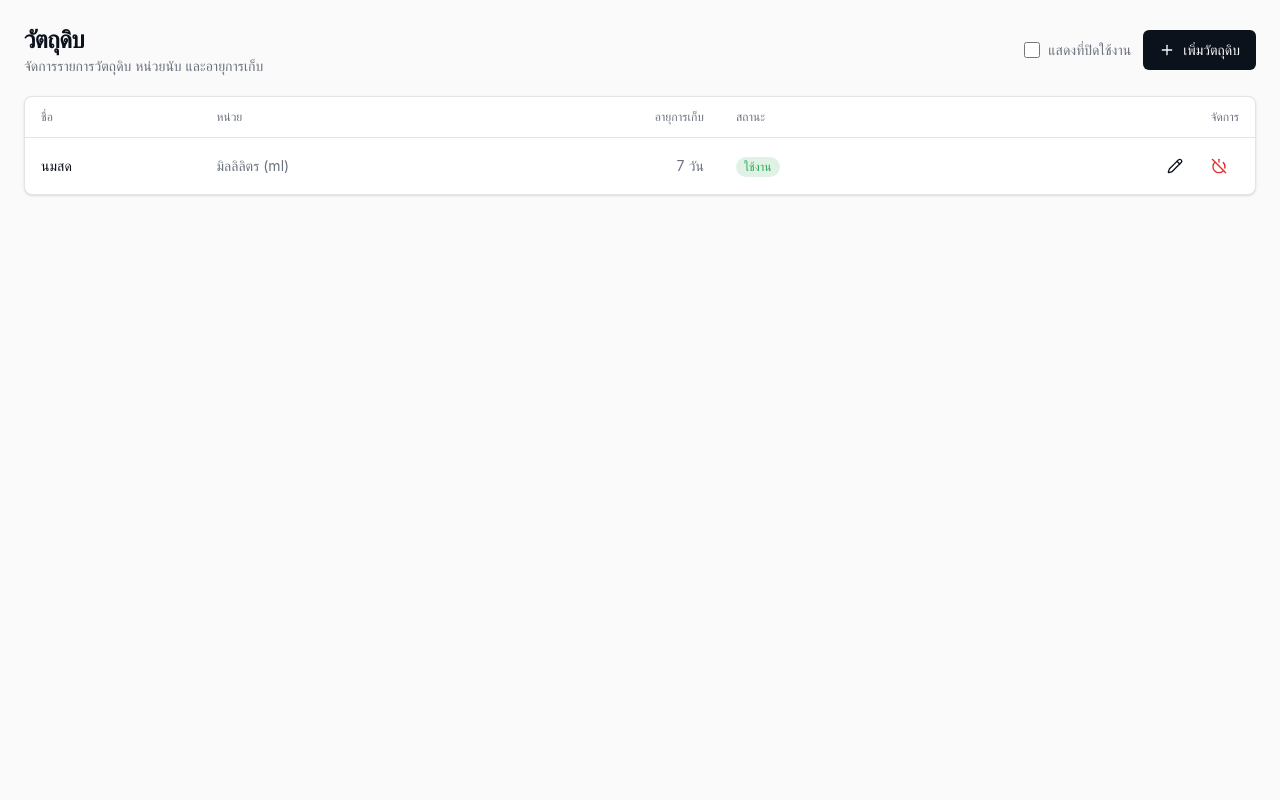
IngredientsPage › opens the create dialog from the header button
Click the button "เพิ่มวัตถุดิบ" at (1200, 50), box x1=1143 y1=30 x2=1256 y2=70
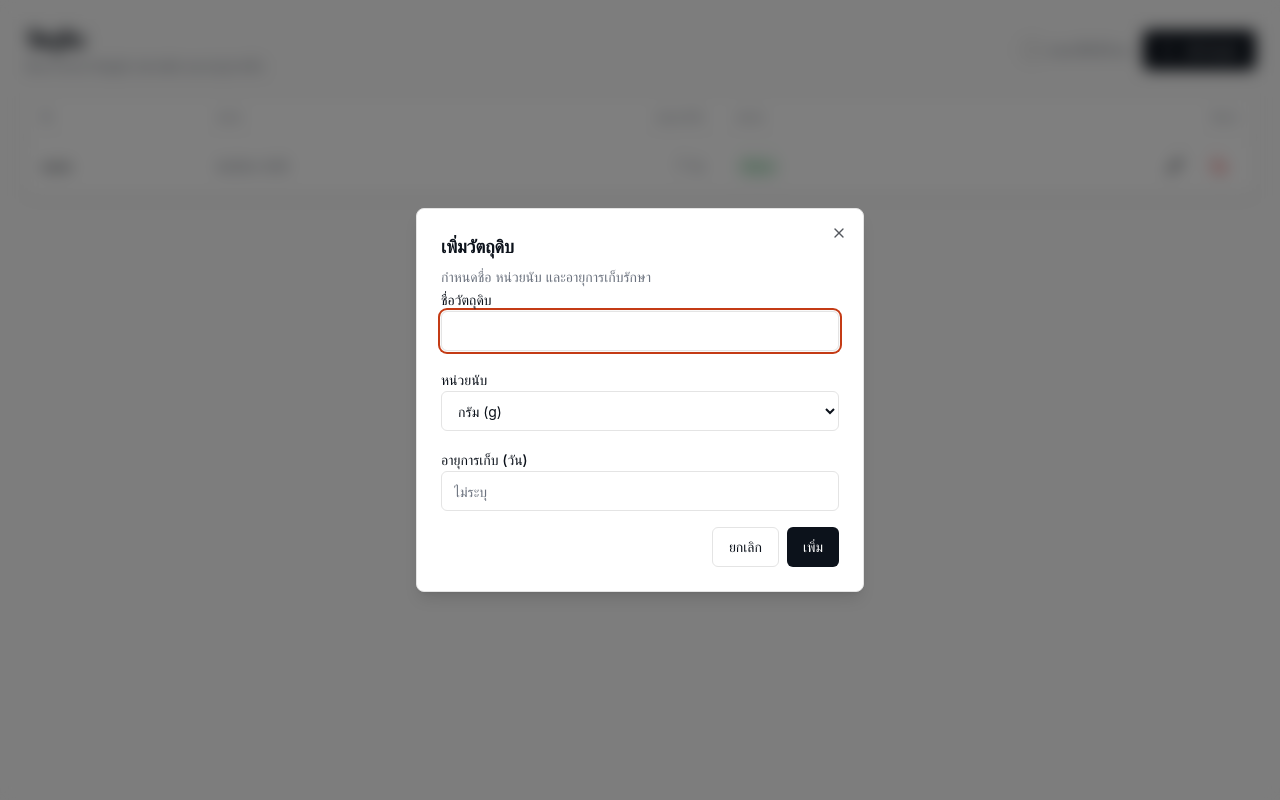
Now the dialog is shown, box x1=416 y1=208 x2=864 y2=592
